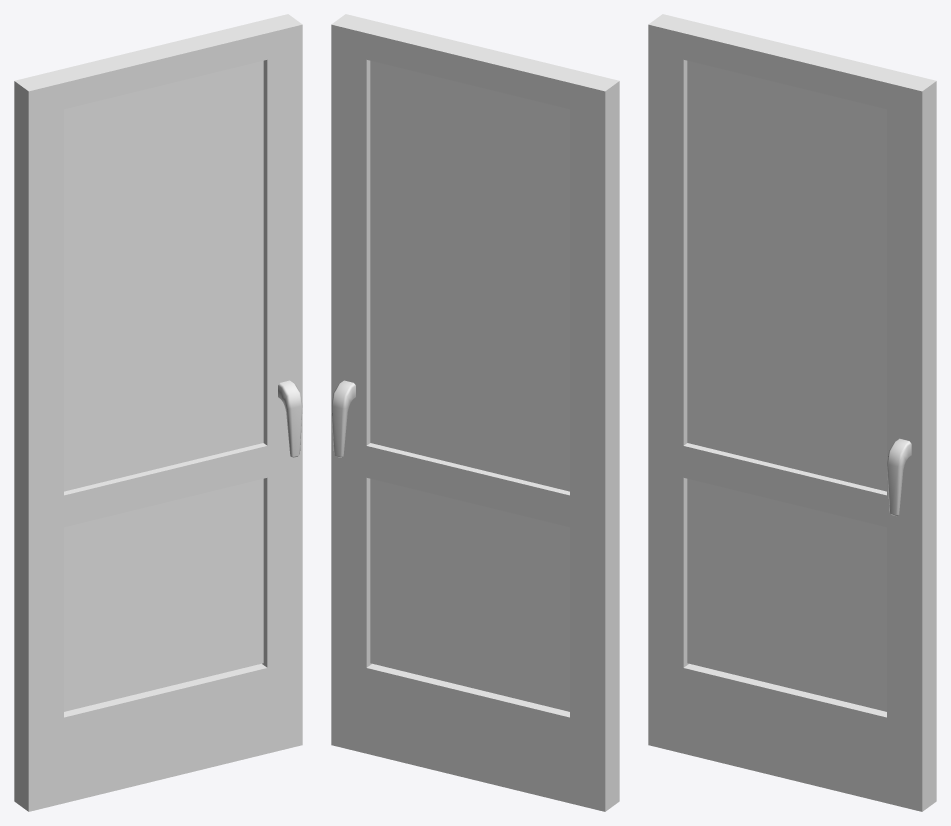
The model's file is wall_015.fbx.
3 renders of one model, left to right at view 1: azimuth 30°, elevation 25°; view 2: azimuth 150°, elevation 25°; view 3: azimuth 330°, elevation 25°, orthographic.
Visible parts, largest first — view 1: wall_015; view 2: wall_015; view 3: wall_015.
Boxes of the visible parts, x1,y1,x2,y2 form: wall_015: (14, 14, 302, 811); wall_015: (331, 14, 619, 811); wall_015: (648, 14, 936, 811).
Bounding box in the file's own units: 95.15 × 22.69 × 239.
